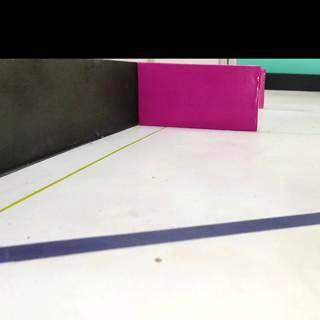xparking: (142, 65, 258, 130)
